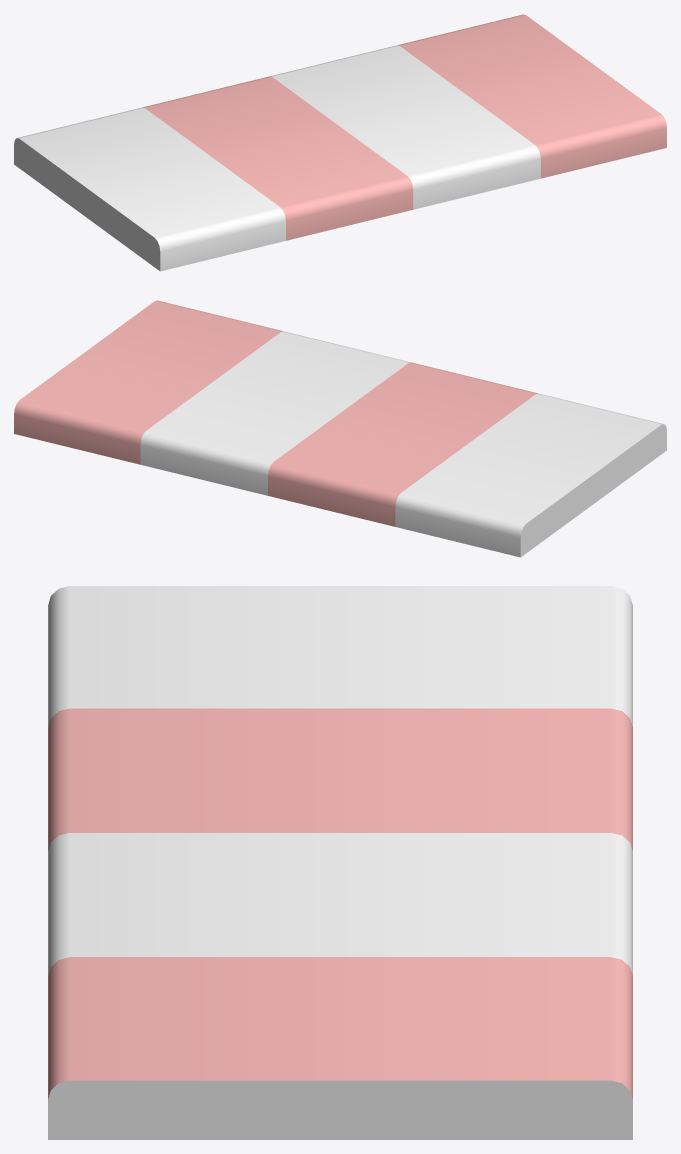
Rendered from RoadSraight1_red.fbx.
3 renders of one model, top to bottom at view 1: azimuth 30°, elevation 25°; view 2: azimuth 150°, elevation 25°; view 3: azimuth 270°, elevation 25°, orthographic. The views are drawn at different scales.
Visible parts, largest first — view 1: RoadStraight1_red; view 2: RoadStraight1_red; view 3: RoadStraight1_red.
Part boxes in pixels (left/top/right/bottom): RoadStraight1_red: left=14, top=14, right=666, bottom=271; RoadStraight1_red: left=14, top=300, right=666, bottom=557; RoadStraight1_red: left=48, top=586, right=632, bottom=1139.
Bounding box in the file's own units: 600 × 33.61 × 300.
Materials: 1 (1 with a texture image).
